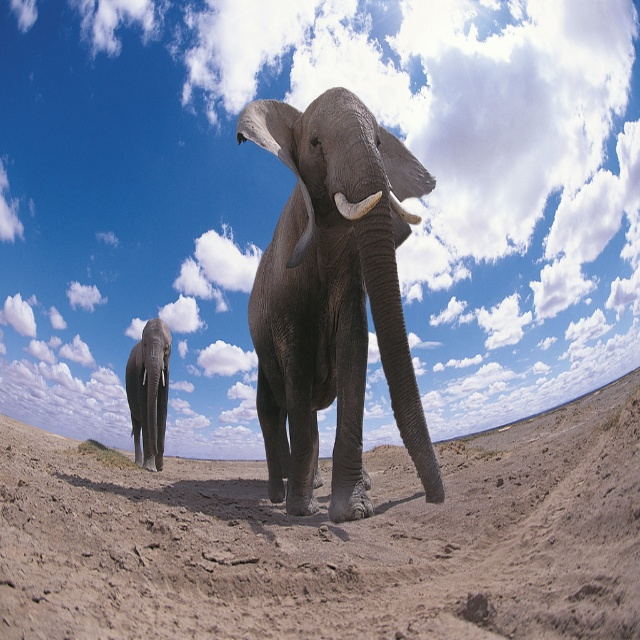Elephant: (236, 69, 449, 530), (123, 314, 170, 471)
